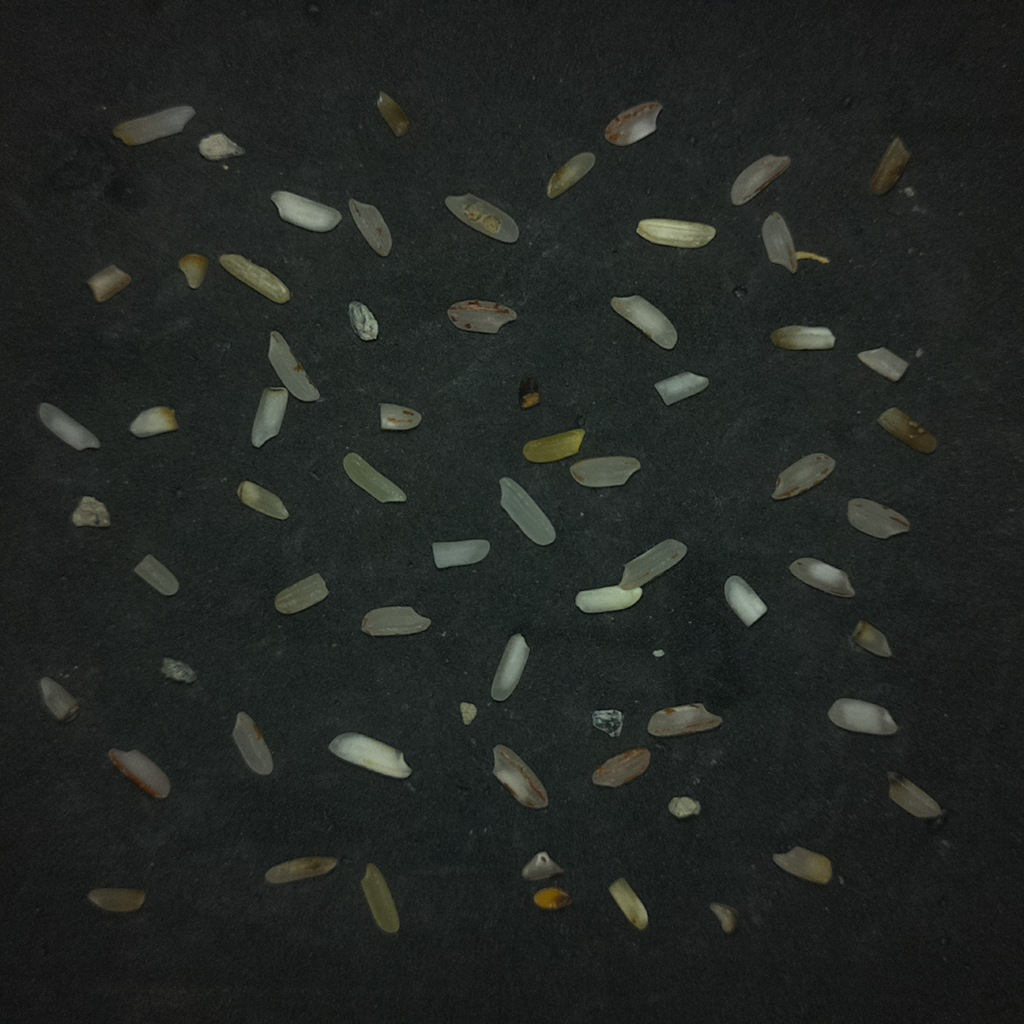broken: (610, 295, 677, 348), (348, 198, 392, 256), (232, 712, 272, 775), (274, 573, 329, 615), (250, 387, 288, 447), (570, 456, 640, 487), (762, 212, 797, 272), (361, 606, 430, 636), (134, 555, 179, 596), (654, 371, 708, 405), (39, 677, 78, 721), (858, 347, 908, 381), (432, 539, 489, 568), (521, 851, 563, 880), (348, 301, 378, 340)
chalky: (329, 735, 409, 778), (271, 190, 340, 232), (38, 403, 99, 450), (490, 633, 529, 701), (788, 557, 854, 597), (827, 699, 897, 735), (724, 575, 766, 626), (575, 585, 642, 613)
damaged: (218, 253, 290, 303), (445, 194, 518, 242), (112, 105, 195, 144), (877, 407, 936, 453), (886, 771, 942, 818), (636, 218, 716, 248), (870, 138, 909, 195), (264, 856, 338, 885), (237, 481, 288, 519), (86, 264, 131, 302), (771, 325, 834, 350), (376, 91, 410, 136), (129, 406, 178, 437), (851, 620, 891, 657), (178, 253, 208, 289), (518, 377, 541, 410)
discolored: (361, 863, 399, 933), (773, 846, 831, 884), (522, 428, 584, 462), (609, 877, 648, 930), (87, 887, 145, 912)
foreign: (198, 133, 244, 161), (71, 496, 110, 527), (161, 657, 197, 683), (533, 887, 571, 910), (668, 796, 700, 819), (459, 701, 477, 725)
red: (268, 330, 319, 401), (493, 744, 548, 808), (108, 748, 170, 798), (730, 154, 790, 205), (772, 452, 835, 499), (604, 101, 662, 146), (647, 703, 722, 736), (847, 498, 908, 538), (447, 299, 516, 333), (592, 747, 650, 787), (546, 152, 595, 198), (379, 403, 421, 430)
whole: (500, 477, 555, 545), (618, 538, 687, 589), (343, 452, 405, 502)
